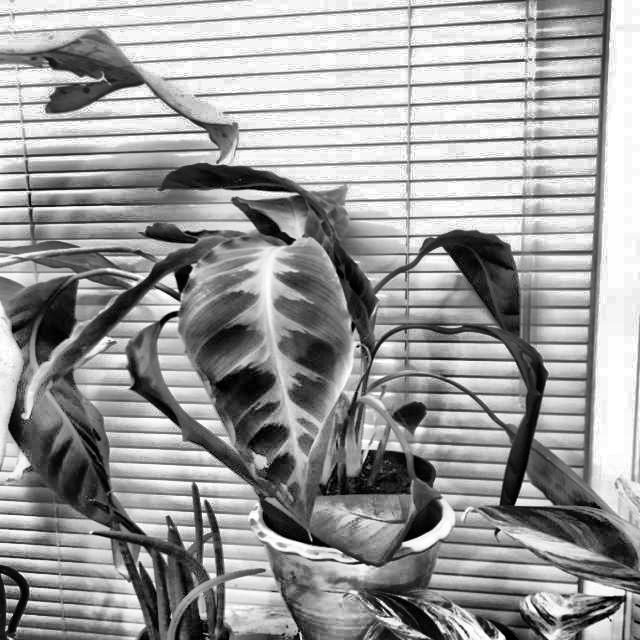plants: (0, 162, 603, 520), (102, 307, 274, 513), (0, 24, 250, 162), (345, 524, 638, 640), (384, 307, 544, 496), (96, 518, 267, 640)
